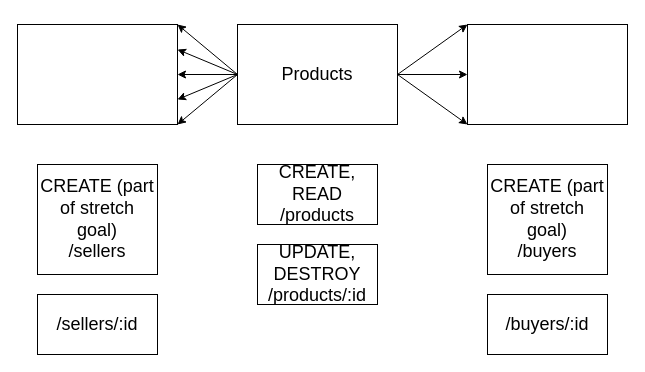
The diagram is 645 pixels wide and 372 high, and some of its shapes have lost their labels. The shapes that lost their labels are listed below. From the top down, each one's centre as x and y in pixels, then its label:
At pixel 97 74: "Seller".
At pixel 547 74: "Buyer".
